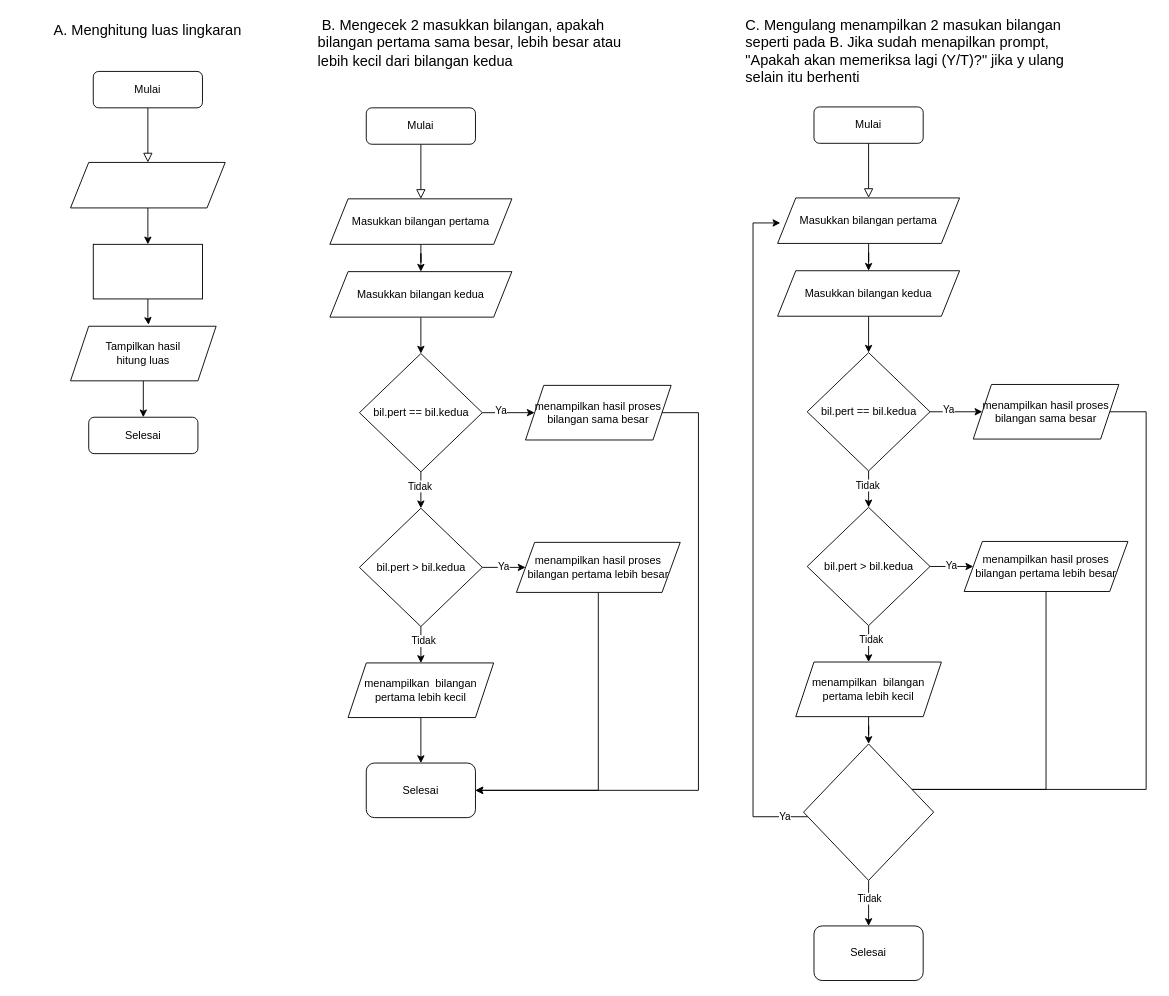
Some shapes in this 1169 by 996 pixel diagram are drawn without their labels. The shapes that lost their labels are listed below. From the top down, each one's centre as x and y in pixels, then its label:
[147,185]: Masukkan Nilai Jari-jari
[147,271]: Hitung luas = 22/7 * jari-jari * jari-jari
[868,811]: Apakah akan memeriksa lagi (Y/T)?
